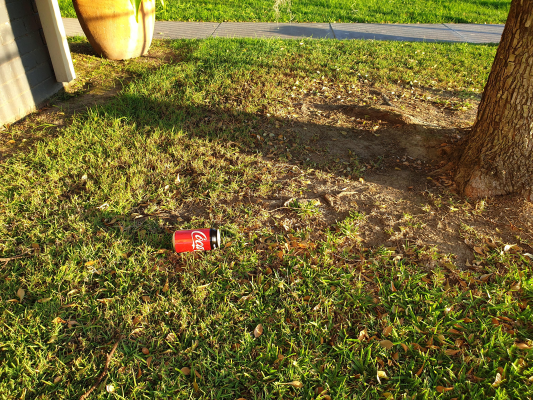Plastic Bottle: (172, 228, 221, 253)
